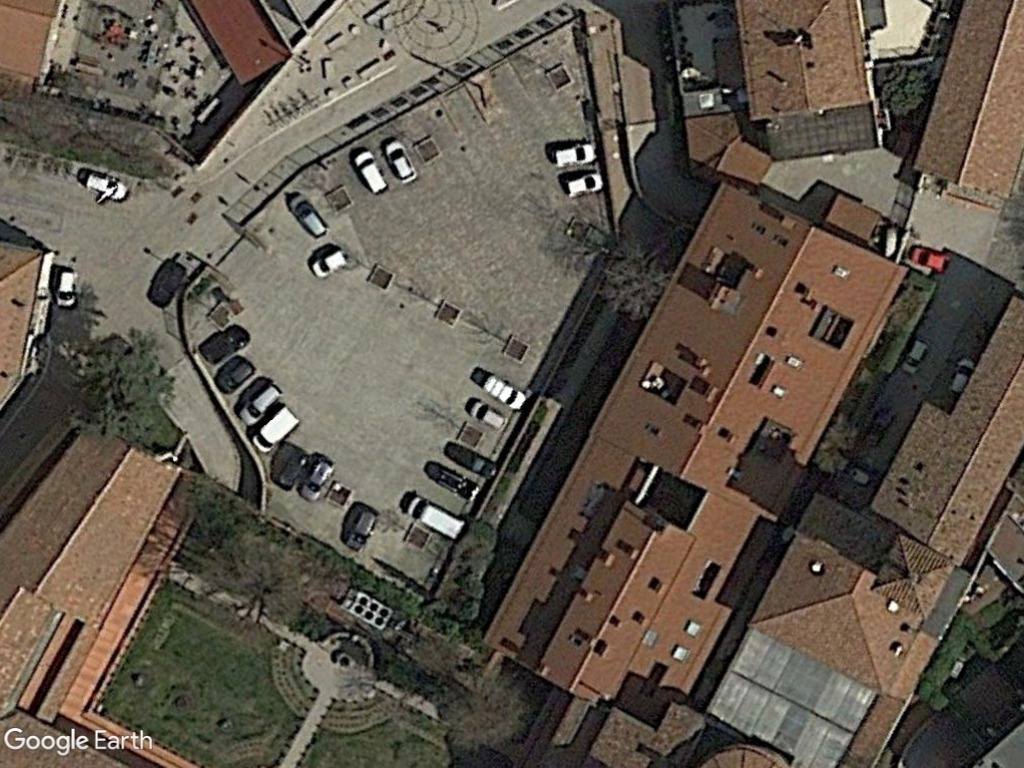car: (237, 376, 284, 434), (295, 451, 341, 509), (284, 191, 330, 241), (350, 144, 390, 198), (477, 372, 532, 411), (342, 503, 382, 555), (380, 135, 420, 186), (81, 168, 132, 207), (214, 353, 259, 395), (307, 243, 354, 281), (463, 398, 513, 433), (546, 135, 598, 167), (900, 335, 932, 381), (562, 169, 605, 201), (53, 265, 81, 309)
van: (402, 490, 469, 546), (252, 401, 305, 456)
